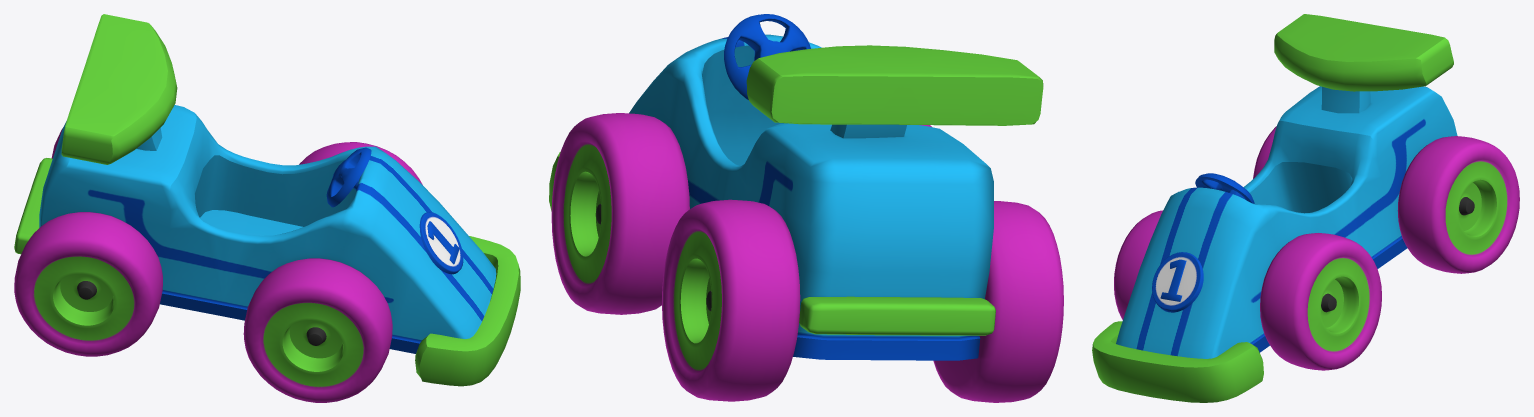
File: cartoon-race-car.glb
3 views of the same model, side by side, from view 1: azimuth 30°, elevation 25°; view 2: azimuth 150°, elevation 25°; view 3: azimuth 270°, elevation 25° (orthographic). The views are drawn at different scales.
Parts seen in each view (by area): view 1: node_id162_1; view 2: node_id162_1; view 3: node_id162_1.
Boxes of the visible parts, x1,y1,x2,y2 form: node_id162_1: [14, 14, 520, 402]; node_id162_1: [549, 14, 1063, 402]; node_id162_1: [1092, 14, 1519, 402].
Size of the model in its own units: 0.4941 by 0.3197 by 0.456.
Materials: 1 (1 with a texture image).
